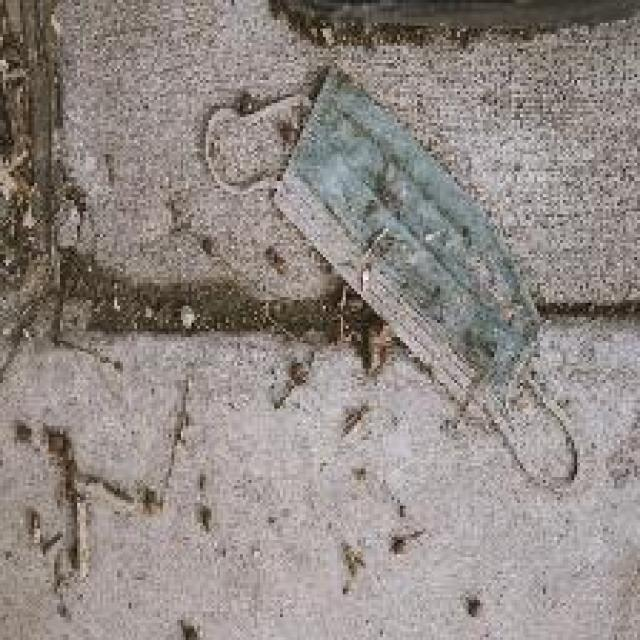Mask: (202, 39, 608, 501)
